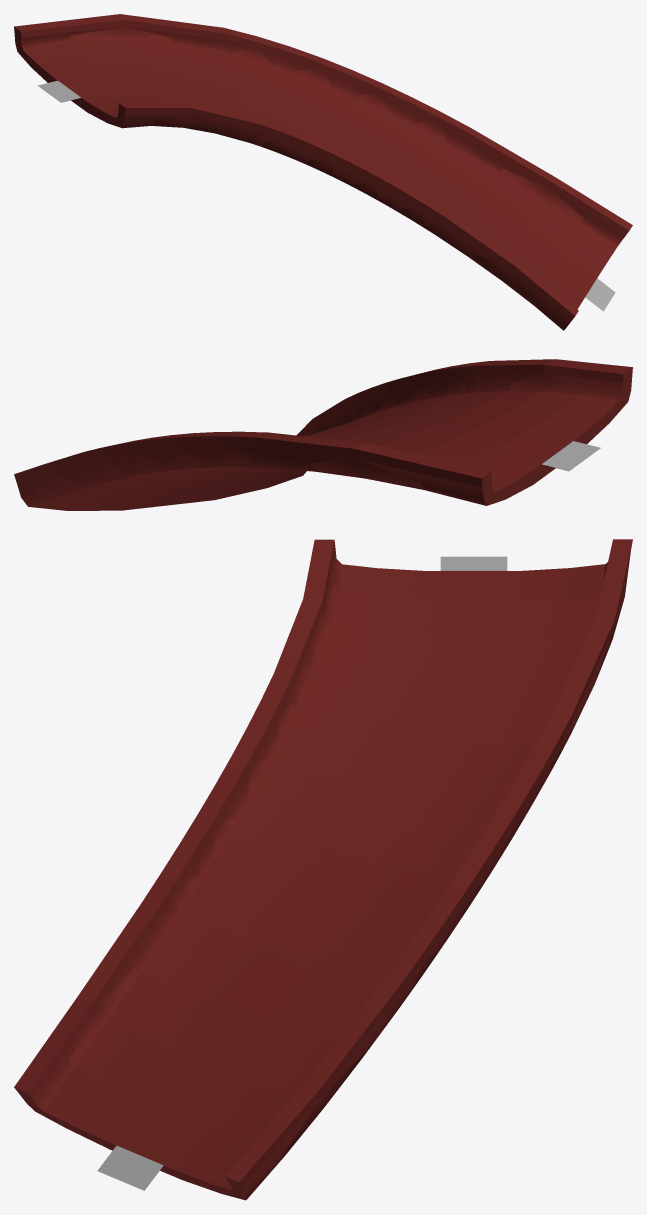
Rendered from 45DownRight.fbx.
3 views of the same model, one above another, from view 1: azimuth 30°, elevation 25°; view 2: azimuth 150°, elevation 25°; view 3: azimuth 270°, elevation 25° (orthographic). The views are drawn at different scales.
Visible parts, largest first — view 1: pPipe3, pasted__pasted__pCube46, pasted__pasted__pCube3; view 2: pPipe3, pasted__pasted__pCube3; view 3: pPipe3, pasted__pasted__pCube46, pasted__pasted__pCube3.
Boxes of the visible parts, bbox=[...] form: pPipe3: bbox=[14, 14, 632, 330]; pasted__pasted__pCube46: bbox=[585, 278, 615, 311]; pasted__pasted__pCube3: bbox=[38, 80, 80, 102]; pPipe3: bbox=[14, 359, 632, 510]; pasted__pasted__pCube3: bbox=[542, 441, 600, 471]; pPipe3: bbox=[14, 539, 632, 1200]; pasted__pasted__pCube46: bbox=[97, 1145, 163, 1190]; pasted__pasted__pCube3: bbox=[440, 556, 507, 570].
Bounding box in the file's own units: 24.78 × 11.62 × 18.55.
